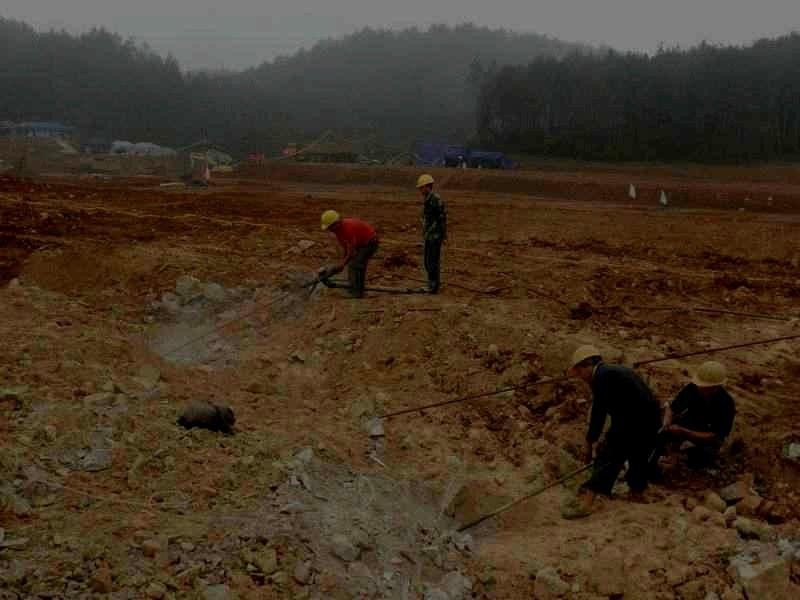helmet: (569, 344, 602, 384), (691, 360, 727, 396), (319, 209, 342, 233), (415, 174, 435, 196)
